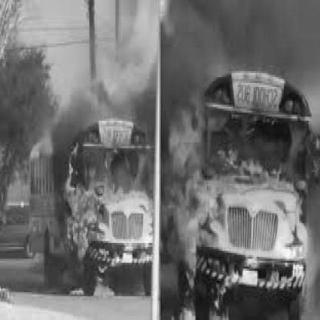Fire: (55, 58, 293, 316)
